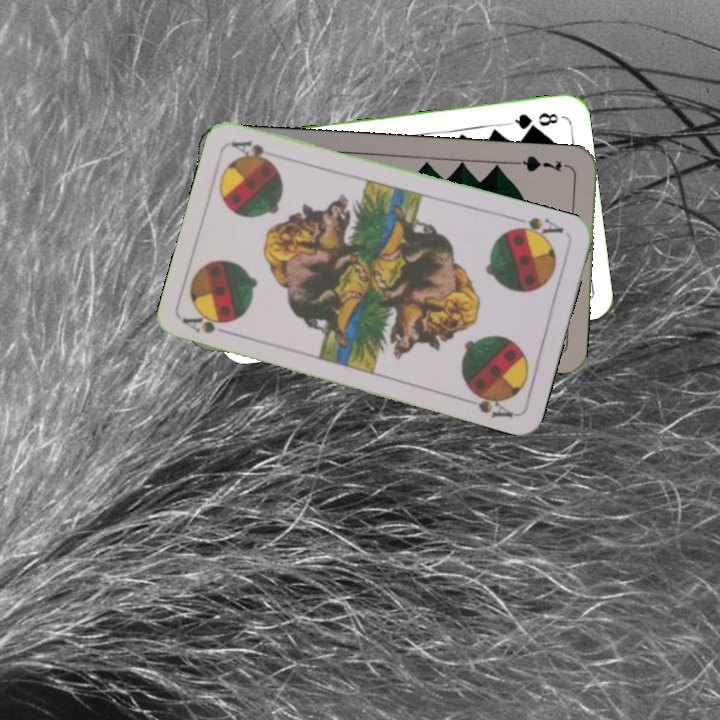G7: (513, 152, 572, 175)
G8: (505, 108, 561, 132)
SA: (507, 213, 566, 243), (180, 310, 238, 339)
